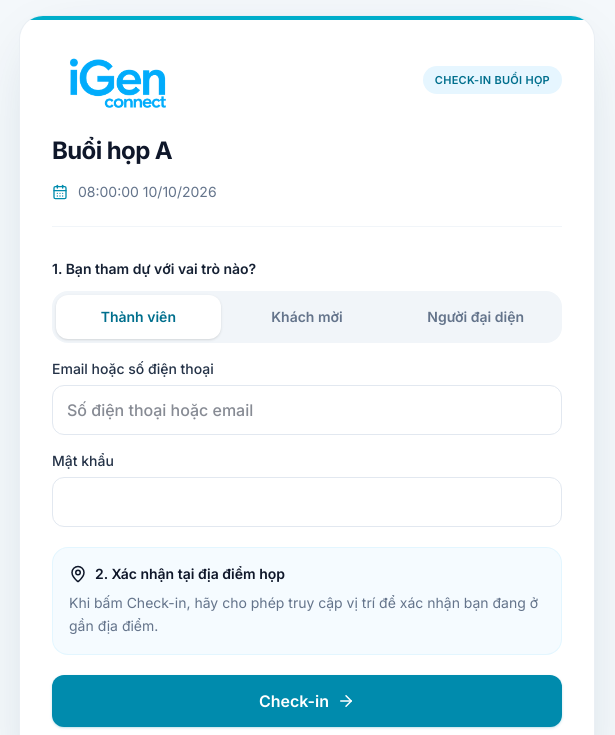
Test: accepts a permanent QR and identifies the actual recorded meeting on success
Type "an@example.com" into the field named "Email tài khoản". click: (307, 410)
box: x1=52 y1=385 x2=562 y2=435
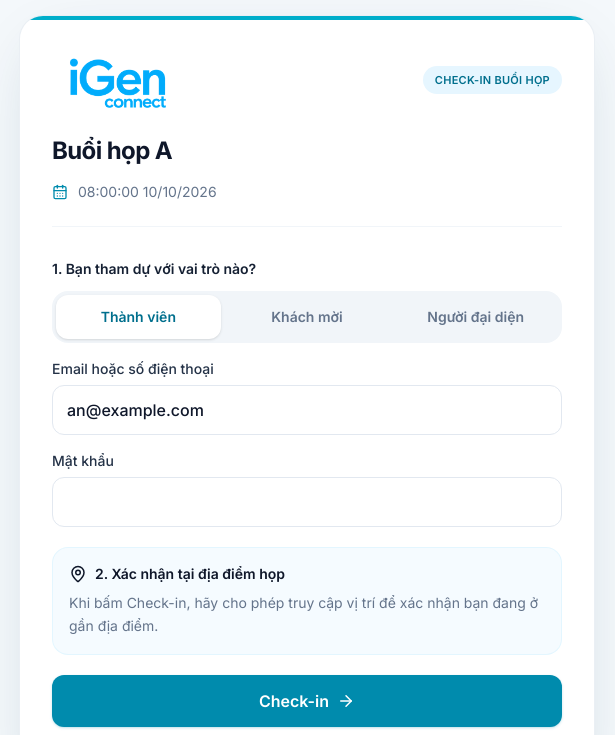
Type "password" into the password field labelled "Mật khẩu". click: (307, 502)
box: x1=52 y1=477 x2=562 y2=527
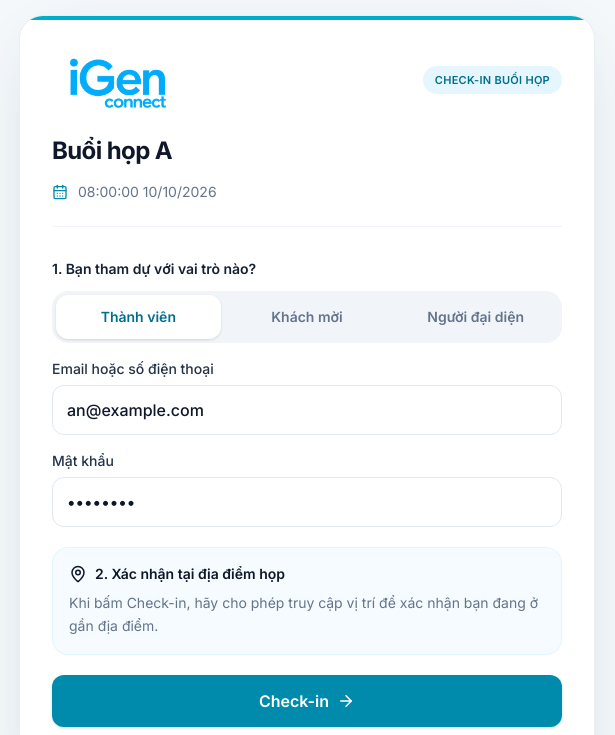
Click the button "Check-in". click: (307, 700)
box: x1=52 y1=674 x2=562 y2=726
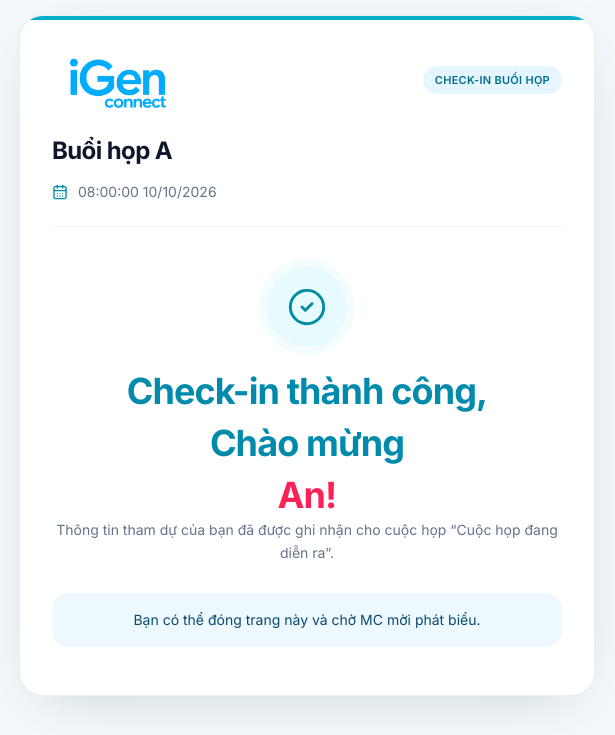
Expected: the heading "Check-in thành công, Chào mừng An!" is shown, x1=127 y1=369 x2=487 y2=517
Expected: the text "cho cuộc họp “Cuộc họp đang diễn ra”" is shown, x1=280 y1=521 x2=558 y2=561
